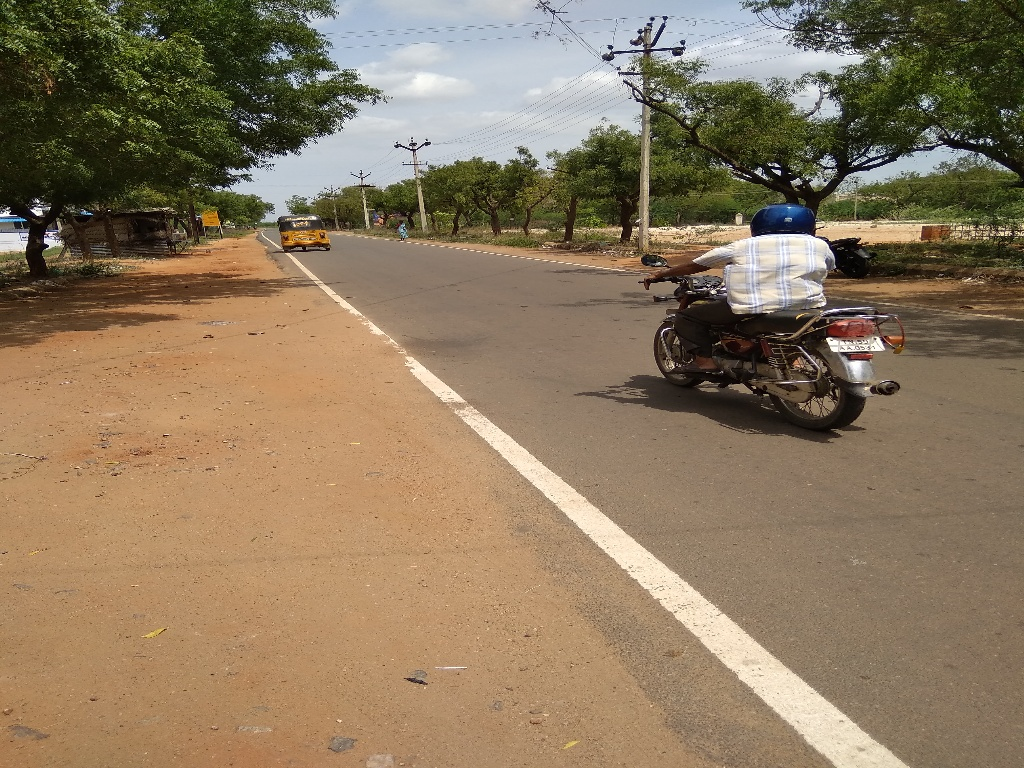biker: (632, 149, 924, 447)
helmet: (740, 183, 832, 254)
